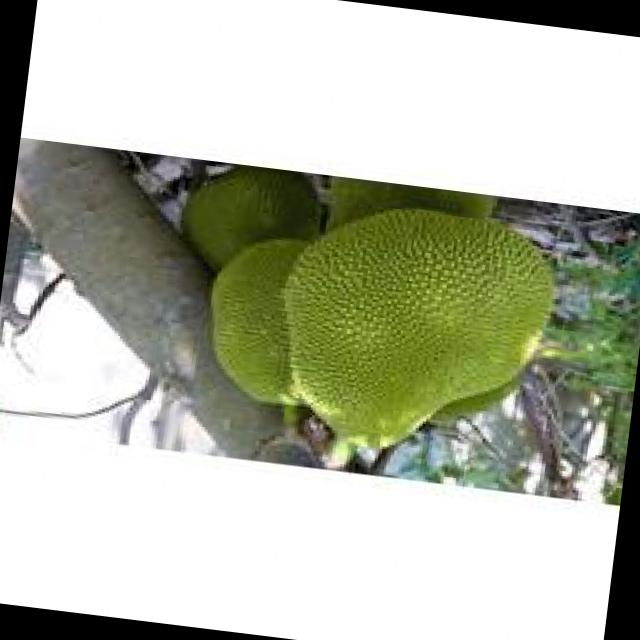Fruit: (258, 184, 578, 478)
